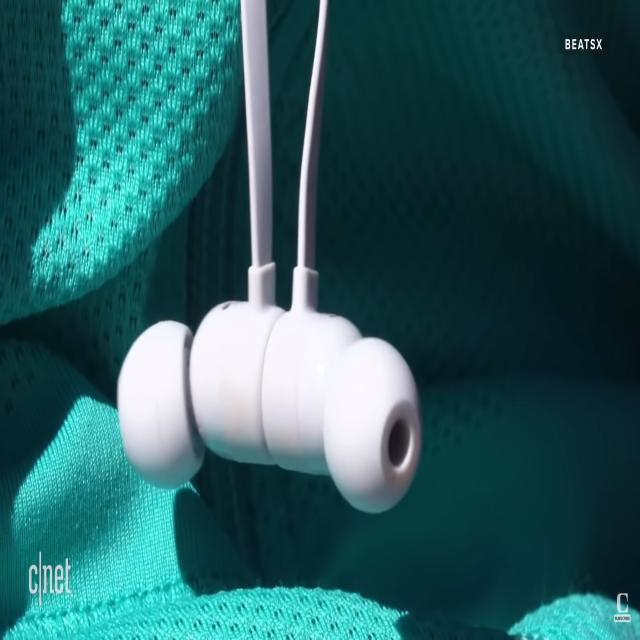Earphone: (117, 0, 424, 518)
